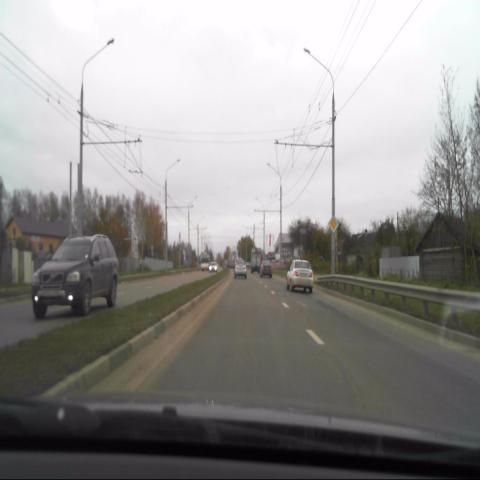2_1: (329, 216, 339, 233)
